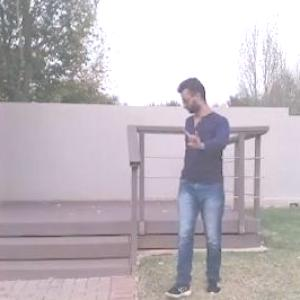takeoff-hand: (180, 120, 208, 151)
